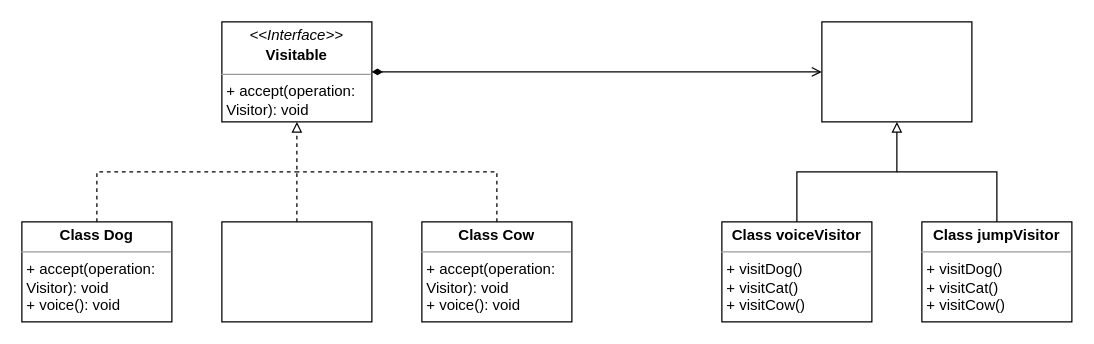
Image size: 1094x344. Some labels were removed from this diagram. The shapes that lost their labels are listed below. From the top down, each one's centre as x and y in pixels, then its label:
At [896,71]: "Class Visitor + visitDog() + visitCat() + visitCow()".
At [296,271]: "Class Cat + accept(operation: Visitor): void + voice(): void".
